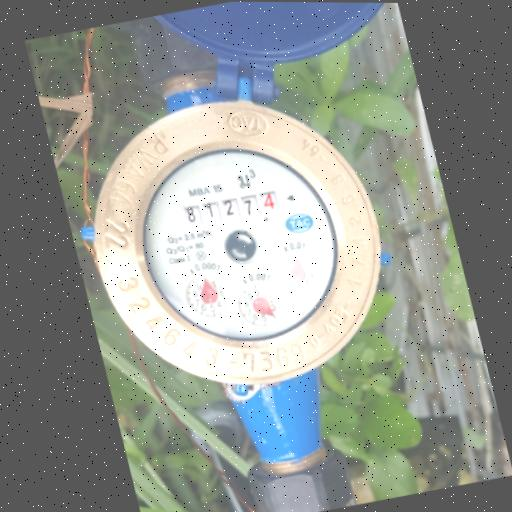1: (203, 201, 221, 223)
2: (222, 197, 241, 221)
4: (261, 192, 279, 214)
7: (243, 195, 260, 216)
8: (185, 204, 203, 227)
border_water_meter_number: (177, 184, 287, 236)
